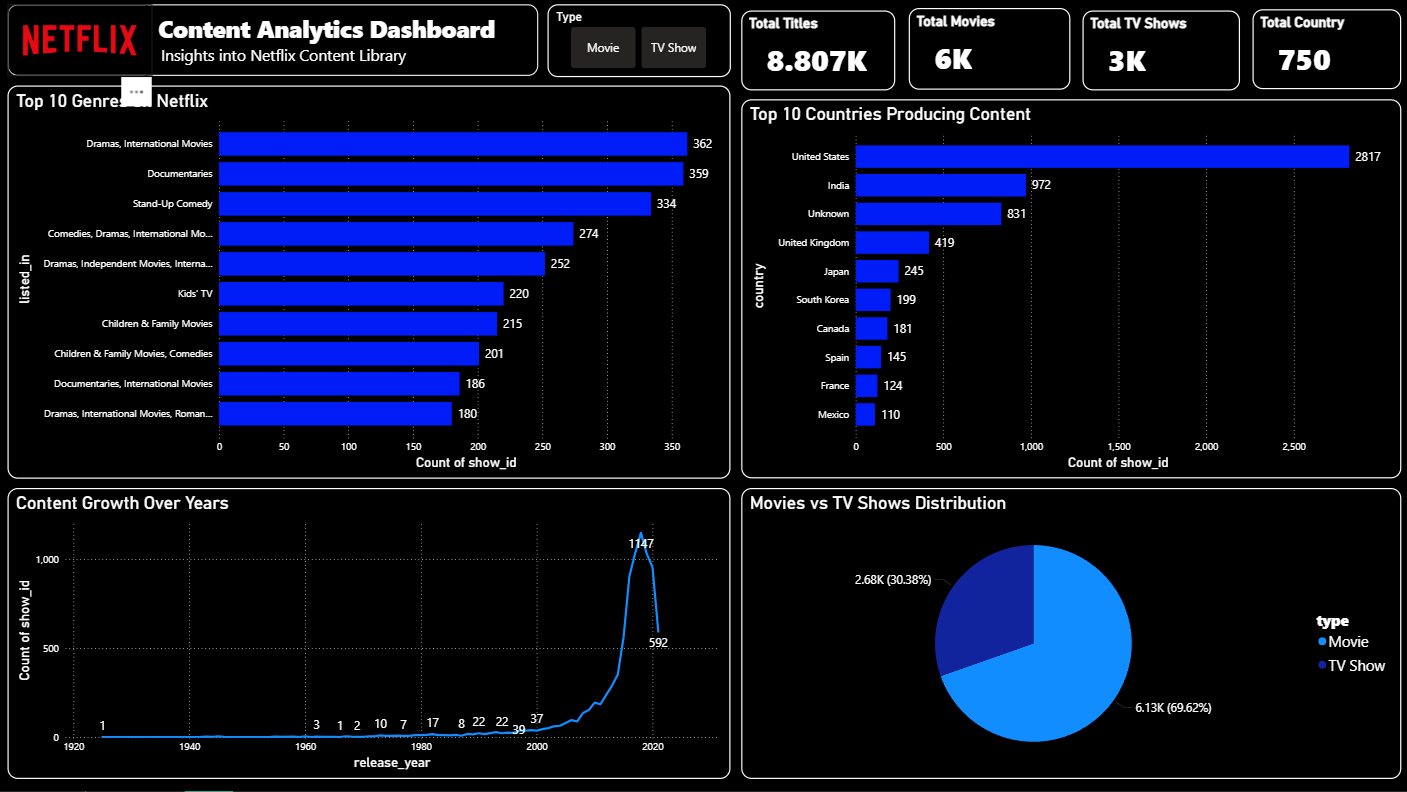

This screenshot's page, from the dashboard's own definition file:
{"tool":"powerbi","page":{"name":"Page 1","canvas":[1920,1080],"ordinal":0},"visuals":[{"type":"textbox","box":[10.5,8.7,722.1,97.7],"z":0},{"type":"cardVisual","title":"Total Titles ","fields":{"Data":["CountNonNull(cleaned_netflix_data.show_id)"]},"box":[1008.6,16.5,209.9,109.1],"z":1000},{"type":"cardVisual","title":"Total TV Shows","fields":{"Data":["cleaned_netflix_data.Total TV Shows"]},"box":[1473.8,16.5,214.1,109.1],"z":2000},{"type":"cardVisual","title":"Total Country","fields":{"Data":["Count(cleaned_netflix_data.country)"]},"box":[1704.1,15.7,202.3,109],"z":3000},{"type":"clusteredBarChart","title":"Top 10 Genres on Netflix ","fields":{"Category":["cleaned_netflix_data.listed_in"],"Y":["CountNonNull(cleaned_netflix_data.show_id)"]},"box":[10.5,118.6,983.7,535.5],"z":4000},{"type":"lineChart","title":"Content Growth Over Years","fields":{"Category":["cleaned_netflix_data.release_year"],"Y":["CountNonNull(cleaned_netflix_data.show_id)"]},"box":[10.5,666.3,983.7,395.9],"z":5000},{"type":"clusteredBarChart","title":"Top 10 Countries Producing Content ","fields":{"Category":["cleaned_netflix_data.country"],"Y":["CountNonNull(cleaned_netflix_data.show_id)"]},"box":[1008.1,137.8,898.3,516.3],"z":6000},{"type":"pieChart","title":"Movies vs TV Shows Distribution","fields":{"Category":["cleaned_netflix_data.type"],"Y":["CountNonNull(cleaned_netflix_data.show_id)"]},"box":[1008.1,666.3,898.3,395.9],"z":7000},{"type":"image","box":[9.6,8.2,197.6,98.8],"z":8000},{"type":"advancedSlicerVisual","title":"Type","fields":{"Values":["cleaned_netflix_data.type"]},"box":[744.8,8.7,249.4,99.4],"z":9000},{"type":"cardVisual","title":"Total Movies","fields":{"Data":["cleaned_netflix_data.Total Movies"]},"box":[1237.1,14.4,220.2,111.1],"z":9001}]}

Visuals, with their boxes in screenshot pixels (x1, y1, x2, y2), scaled from the page's 1920x1080 canvas onto the 1407x792 screenshot:
textbox: [8,6,537,78]
"Total Titles " cardVisual: [739,12,893,92]
"Total TV Shows" cardVisual: [1080,12,1237,92]
"Total Country" cardVisual: [1249,12,1397,91]
"Top 10 Genres on Netflix " clusteredBarChart: [8,87,729,480]
"Content Growth Over Years" lineChart: [8,489,729,779]
"Top 10 Countries Producing Content " clusteredBarChart: [739,101,1397,480]
"Movies vs TV Shows Distribution" pieChart: [739,489,1397,779]
image: [7,6,152,78]
"Type" advancedSlicerVisual: [546,6,729,79]
"Total Movies" cardVisual: [907,11,1068,92]
